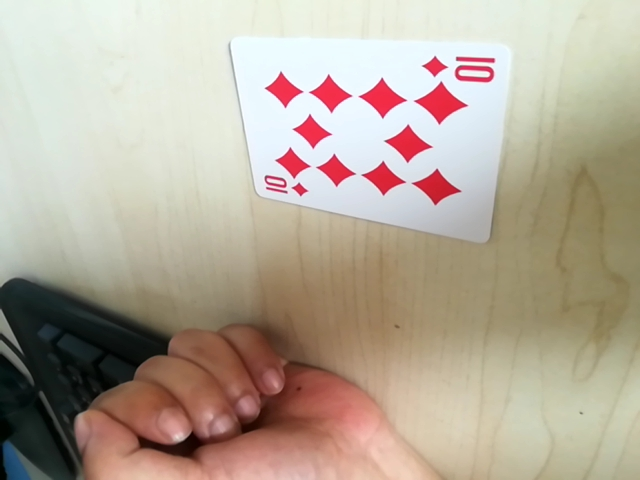fk 10: (421, 46, 501, 84), (256, 173, 311, 206)
